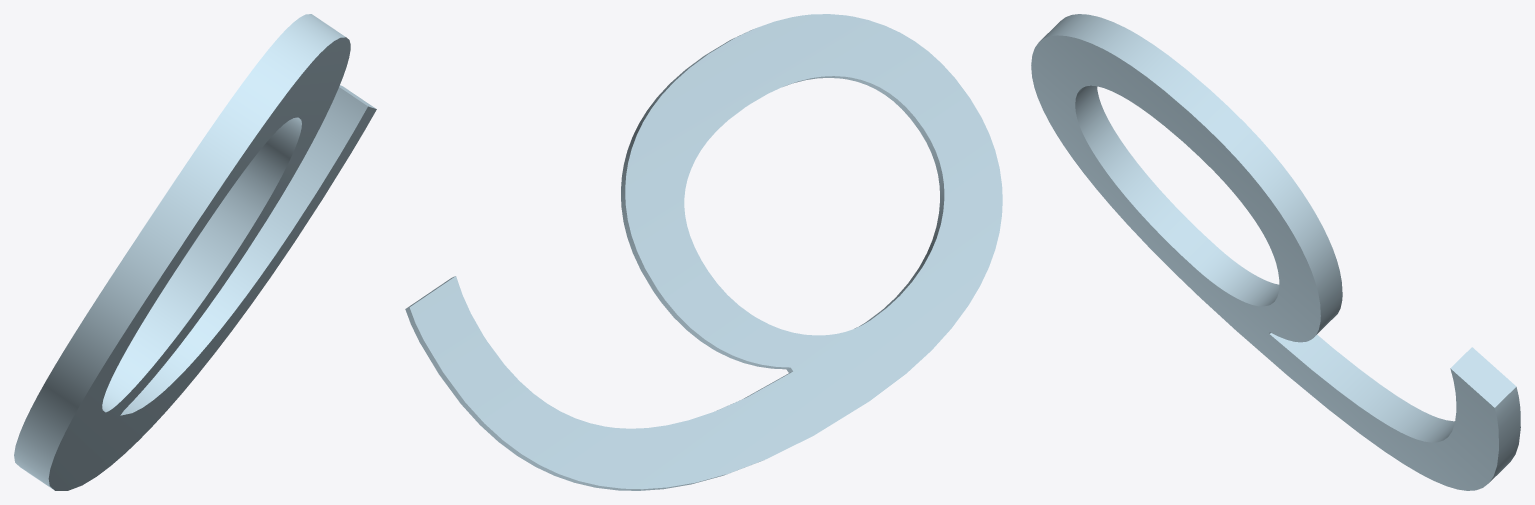
File: Number_9.gltf
3 views of the same model, side by side, from view 1: azimuth 30°, elevation 25°; view 2: azimuth 150°, elevation 25°; view 3: azimuth 270°, elevation 25° (orthographic). The views are drawn at different scales.
Parts seen in each view (by area): view 1: Sub_4_Cell_2_3_Number_9; view 2: Sub_4_Cell_2_3_Number_9; view 3: Sub_4_Cell_2_3_Number_9.
Part boxes in pixels (left/top/right/bottom): Sub_4_Cell_2_3_Number_9: left=14, top=14, right=376, bottom=490; Sub_4_Cell_2_3_Number_9: left=405, top=14, right=1002, bottom=490; Sub_4_Cell_2_3_Number_9: left=1031, top=14, right=1520, bottom=490.
Size of the model in its own units: 0.0208 by 0.0186 by 0.0194.
